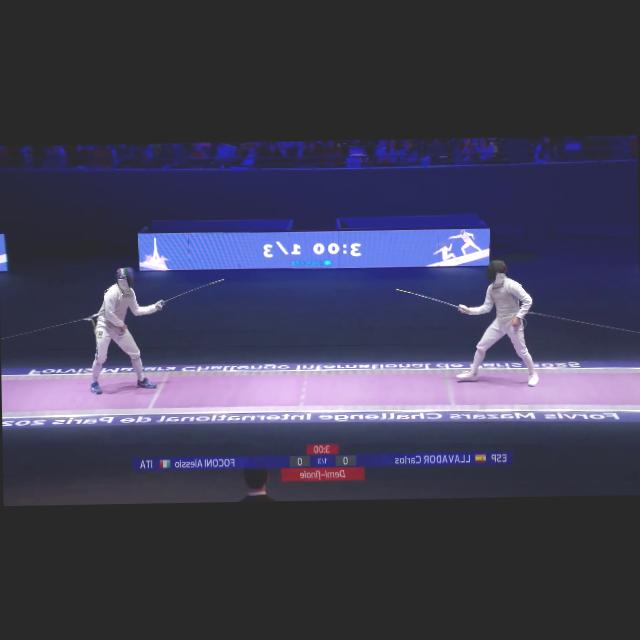blade: (156, 276, 226, 306), (395, 286, 466, 312)
